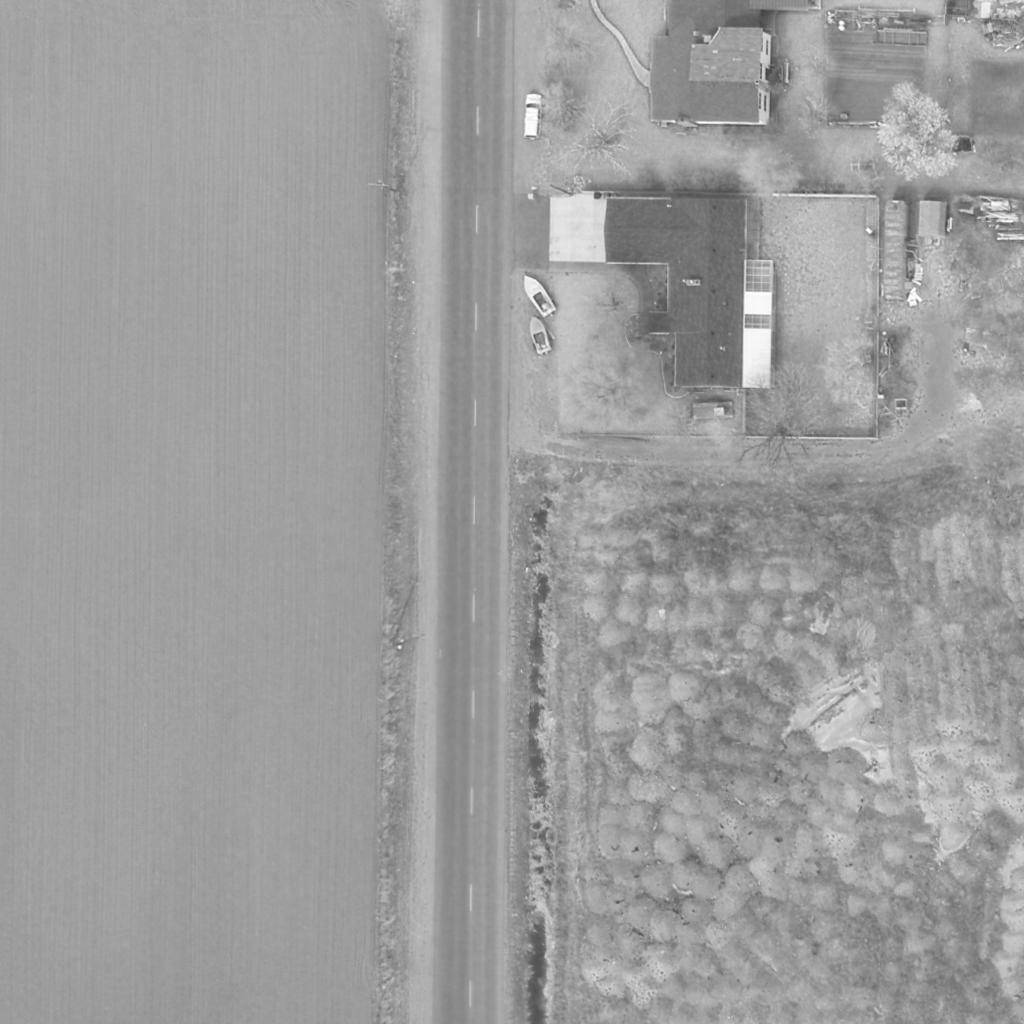vehicle: (516, 270, 558, 320), (524, 317, 554, 355), (524, 94, 544, 140)
